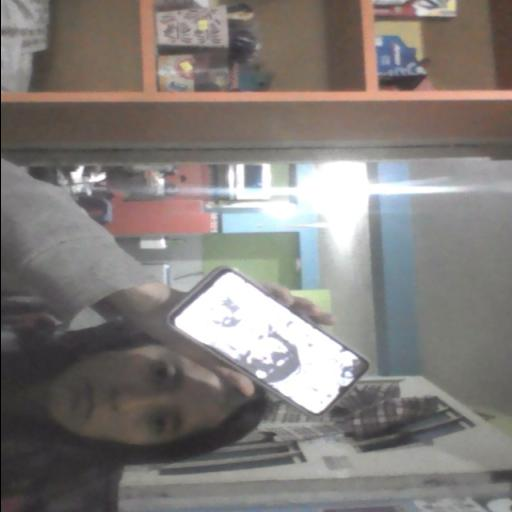phone: (161, 264, 365, 418)
